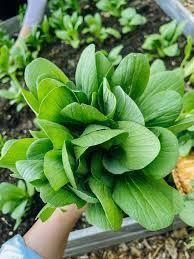Healthy-Pechay: (12, 61, 194, 230)
